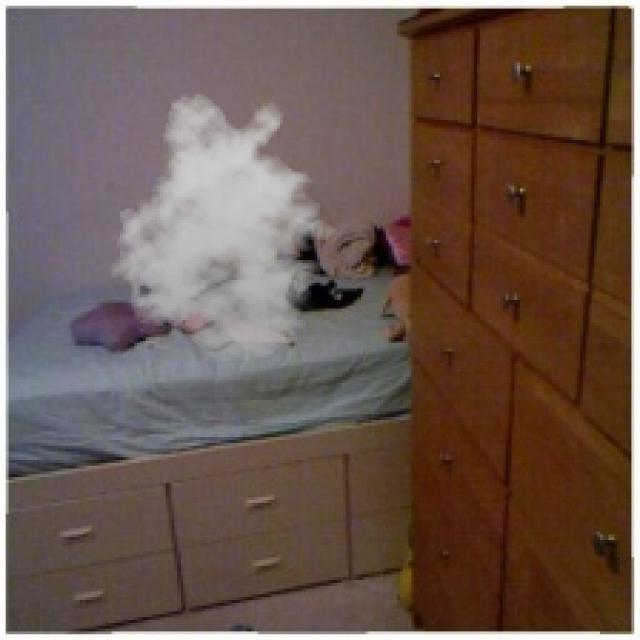Smoke: (102, 91, 348, 363)
